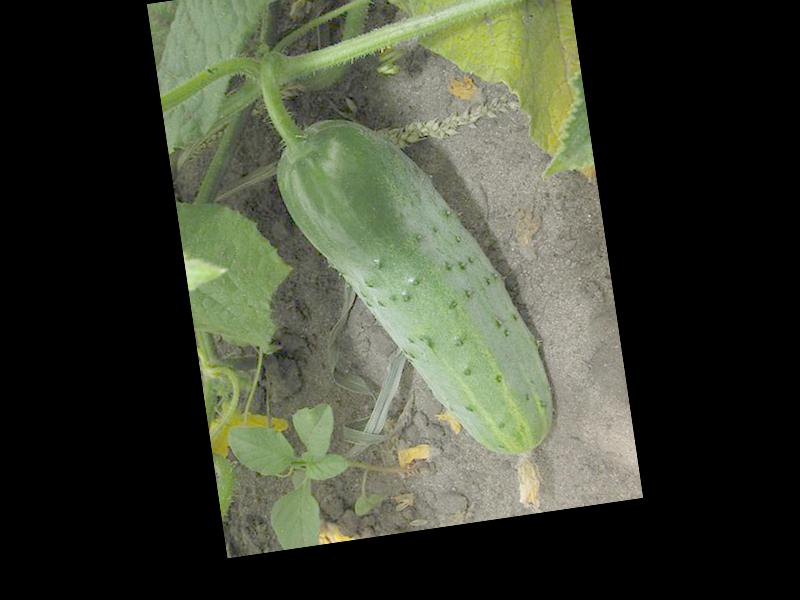Cucumber: (270, 94, 569, 538)
